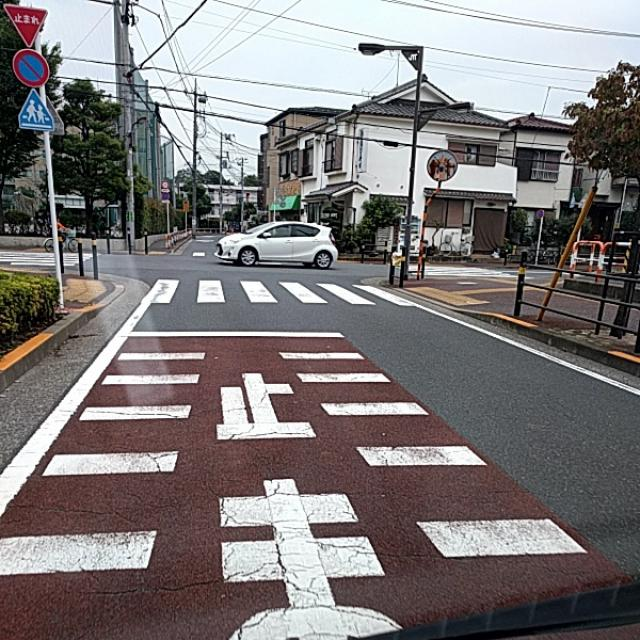pothole: (253, 490, 360, 600)
